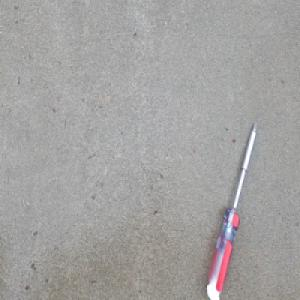Screwdriver: (205, 117, 259, 300)
